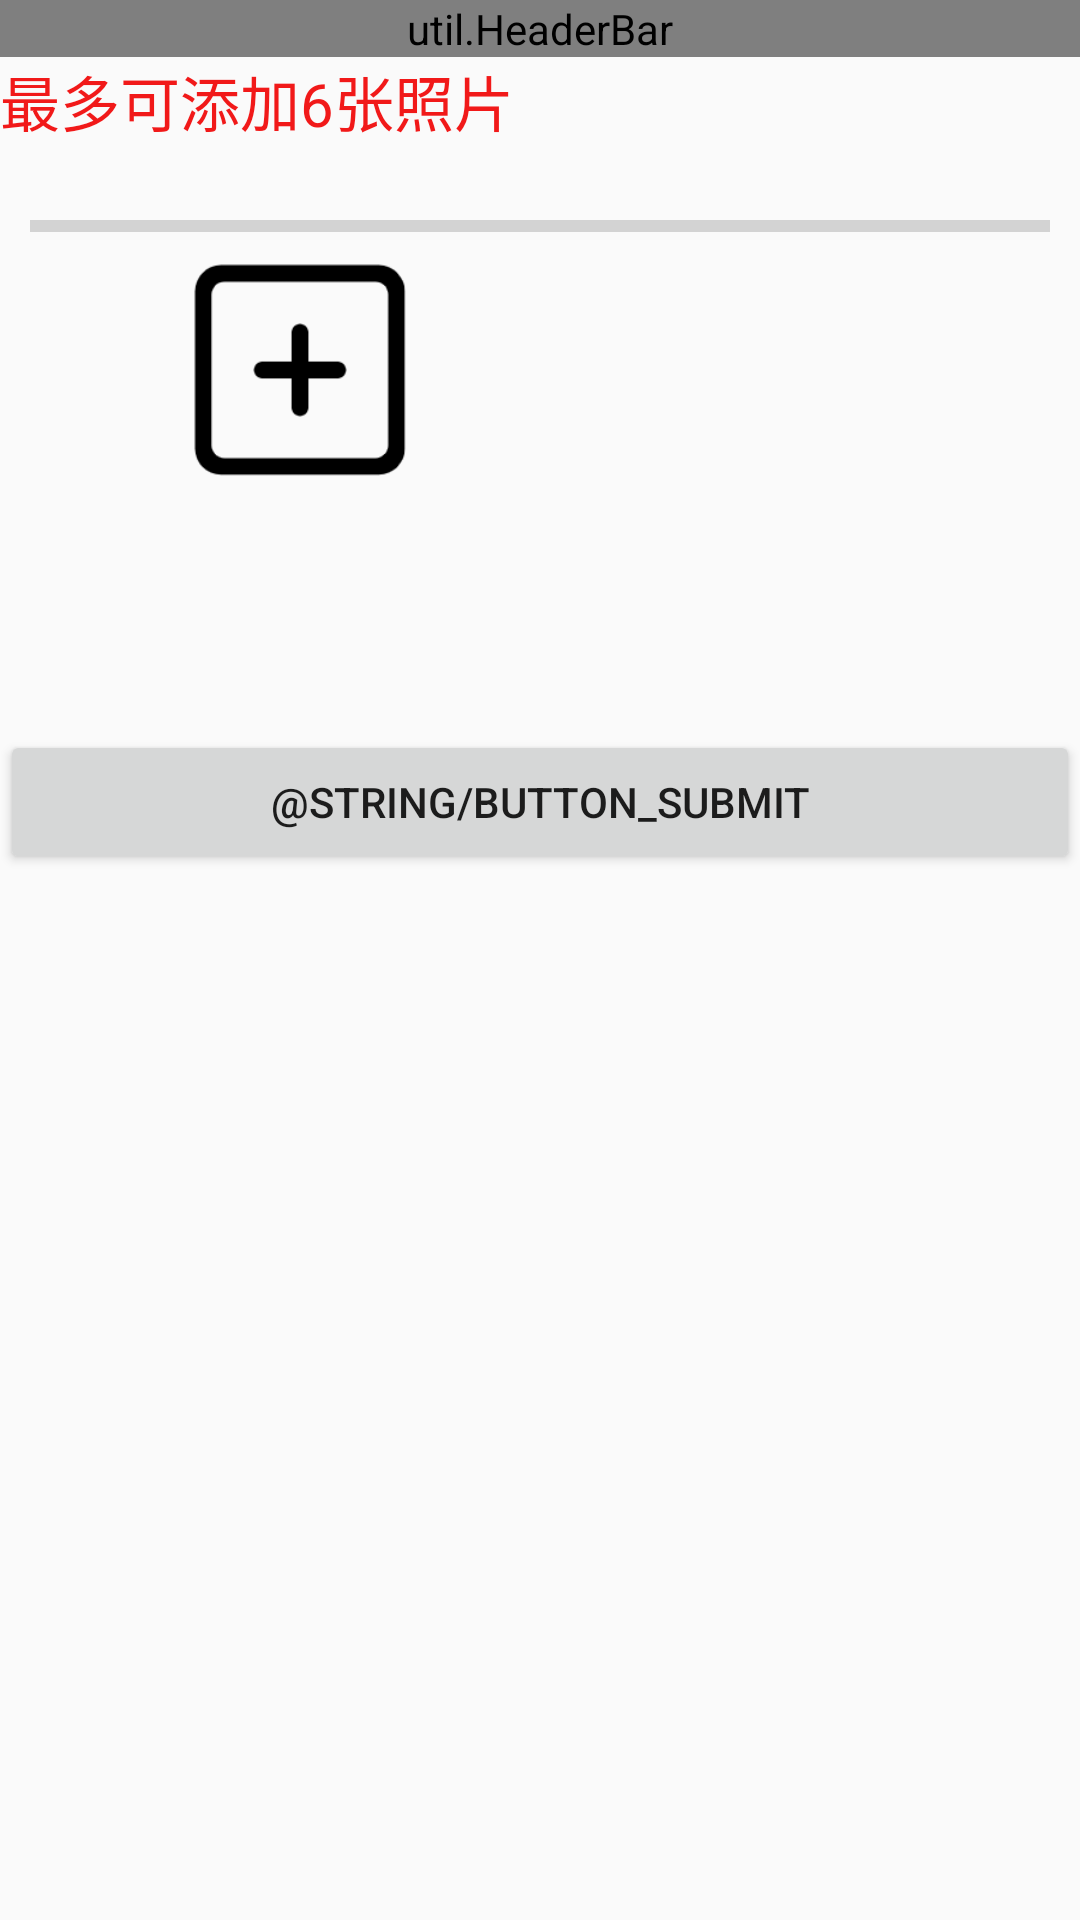

Named icons in this screenshot (1080*1920) and their bounding boxes, detection(x1, y1, x2, y2):
add: detection(194, 264, 406, 476)
